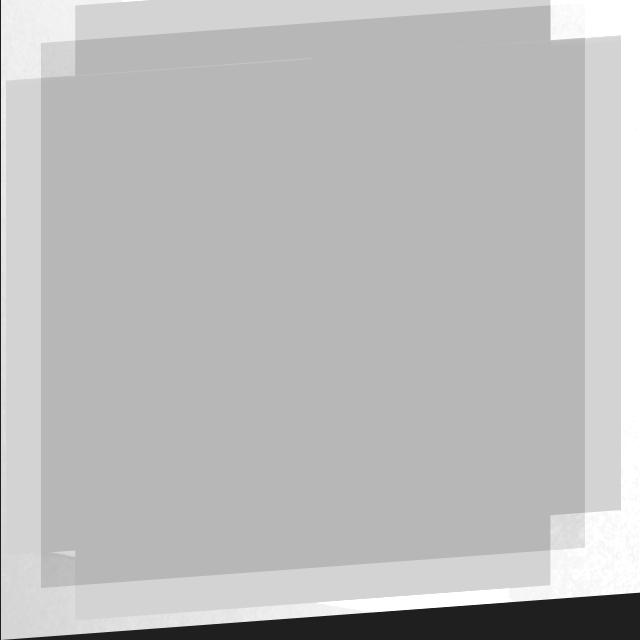qr_code: (40, 12, 584, 589)
